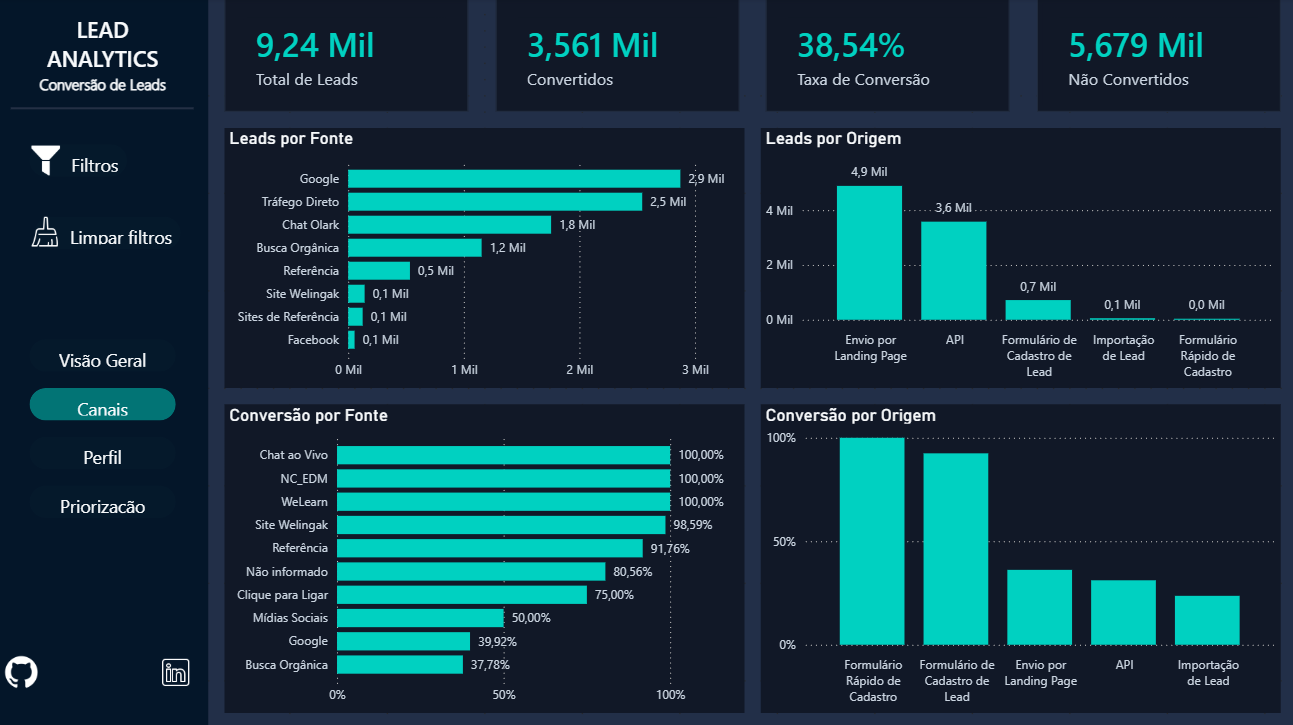

What the dashboard file says about the page in this screenshot:
{"tool":"powerbi","page":{"name":"02 Canais","canvas":[1280,720],"ordinal":1},"visuals":[{"type":"shape","box":[0,0,208,720],"z":0,"group":"g1"},{"type":"cardVisual","fields":{"Data":["leads_tratados_mvp1.Total de Leads"]},"box":[224,0,240,112],"z":0},{"type":"actionButton","title":"Filtros","box":[32,336,144,32],"z":250,"group":"g1"},{"type":"image","box":[0,640,48,48],"z":500,"group":"g1"},{"type":"actionButton","box":[32,384,144,32],"z":750,"group":"g1"},{"type":"actionButton","title":"Filtros","box":[32,480,144,32],"z":812,"group":"g1"},{"type":"actionButton","title":"Filtros","box":[32,432,144,32],"z":875,"group":"g1"},{"type":"cardVisual","fields":{"Data":["leads_tratados_mvp1.Leads Convertidos"]},"box":[490.7,0,240,112],"z":1000},{"type":"textbox","box":[0,10.8,207.8,89.1],"z":1000,"group":"g1"},{"type":"textbox","box":[0,70.7,208,41.8],"z":2000,"group":"g1"},{"type":"columnChart","title":"Leads por Origem","fields":{"Category":["leads_tratados_mvp1.origem_do_lead"],"Y":["leads_tratados_mvp1.Total de Leads"]},"box":[752,128,512,256],"z":2000},{"type":"cardVisual","fields":{"Data":["leads_tratados_mvp1.Leads Não Convertidos"]},"box":[1024,0,240,112],"z":3000},{"type":"shape","box":[13.3,69.3,180.2,79.4],"z":3000,"group":"g1"},{"type":"cardVisual","fields":{"Data":["leads_tratados_mvp1.Taxa de Conversão"]},"box":[757.3,0,240,112],"z":4000},{"type":"actionButton","title":"Filtros","box":[32,144,96,32],"z":4000,"group":"g1"},{"type":"barChart","title":"Leads por Fonte","fields":{"Category":["leads_tratados_mvp1.fonte_do_lead"],"Y":["leads_tratados_mvp1.Total de Leads"]},"box":[224,128,512,256],"z":5000},{"type":"image","box":[32,144,32,32],"z":5000,"group":"g1"},{"type":"actionButton","title":"Filtros","box":[37,215,144,32],"z":5500,"group":"g1"},{"type":"image","box":[160,640,32,48],"z":5750,"group":"g1"},{"type":"image","box":[32,215,32,32],"z":6000,"group":"g1"},{"type":"image","box":[32,144,32,32],"z":8000},{"type":"barChart","title":"Conversão por Fonte","fields":{"Category":["leads_tratados_mvp1.fonte_do_lead"],"Y":["leads_tratados_mvp1.Taxa de Conversão"]},"box":[224,400,512,304],"z":9000},{"type":"group","id":"g1","title":"Grupo 2","box":[0,0,208,720],"z":11000},{"type":"columnChart","title":"Conversão por Origem","fields":{"Category":["leads_tratados_mvp1.origem_do_lead"],"Y":["leads_tratados_mvp1.Taxa de Conversão"]},"box":[752,400,512,304],"z":12000}]}

Visuals, with their boxes in screenshot pixels (x1, y1, x2, y2), scaled from the page's 1280x720 canvas onto the 1293x725 screenshot:
shape: bbox=(0, 0, 210, 724)
cardVisual - leads_tratados_mvp1.Total de Leads: bbox=(226, 0, 469, 113)
"Filtros" actionButton: bbox=(32, 338, 178, 371)
image: bbox=(0, 644, 48, 693)
actionButton: bbox=(32, 387, 178, 419)
"Filtros" actionButton: bbox=(32, 483, 178, 516)
"Filtros" actionButton: bbox=(32, 435, 178, 467)
cardVisual - leads_tratados_mvp1.Leads Convertidos: bbox=(496, 0, 738, 113)
textbox: bbox=(0, 11, 210, 101)
textbox: bbox=(0, 71, 210, 113)
"Leads por Origem" columnChart: bbox=(760, 129, 1277, 387)
cardVisual - leads_tratados_mvp1.Leads Não Convertidos: bbox=(1034, 0, 1277, 113)
shape: bbox=(13, 70, 195, 150)
cardVisual - leads_tratados_mvp1.Taxa de Conversão: bbox=(765, 0, 1007, 113)
"Filtros" actionButton: bbox=(32, 145, 129, 177)
"Leads por Fonte" barChart: bbox=(226, 129, 743, 387)
image: bbox=(32, 145, 65, 177)
"Filtros" actionButton: bbox=(37, 216, 183, 249)
image: bbox=(162, 644, 194, 693)
image: bbox=(32, 216, 65, 249)
image: bbox=(32, 145, 65, 177)
"Conversão por Fonte" barChart: bbox=(226, 403, 743, 709)
"Grupo 2" group: bbox=(0, 0, 210, 724)
"Conversão por Origem" columnChart: bbox=(760, 403, 1277, 709)
